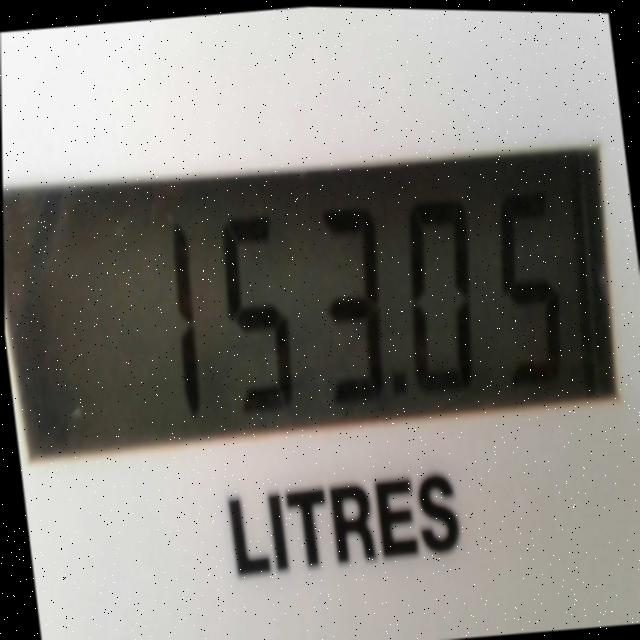.: (378, 355, 413, 404)
0: (383, 182, 489, 407)
1: (135, 202, 222, 431)
3: (305, 199, 393, 408)
5: (202, 208, 315, 437), (473, 176, 579, 408)
